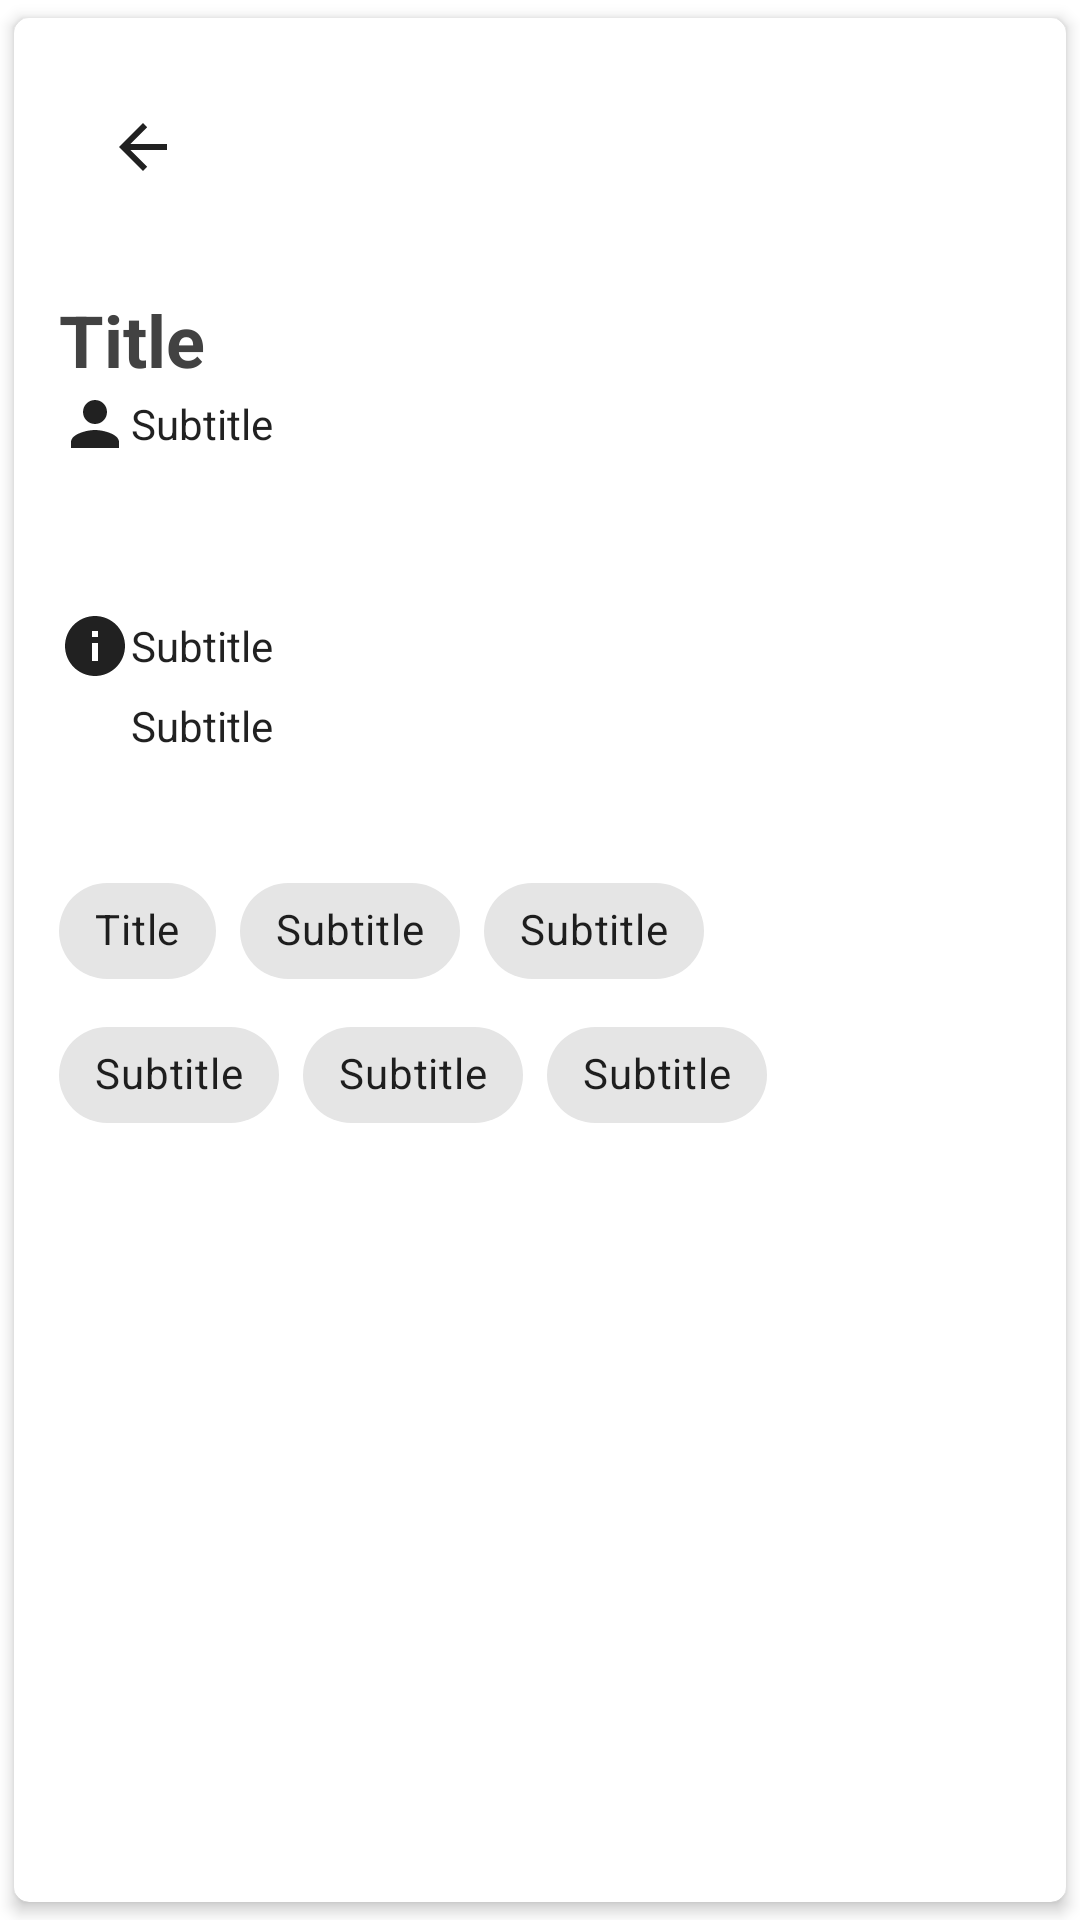

Locate icon controls on the screen. Image size 1080×1920, boxes as (x1, y1, x2, y2).
info: (65, 616, 125, 676)
person: (71, 400, 119, 448)
